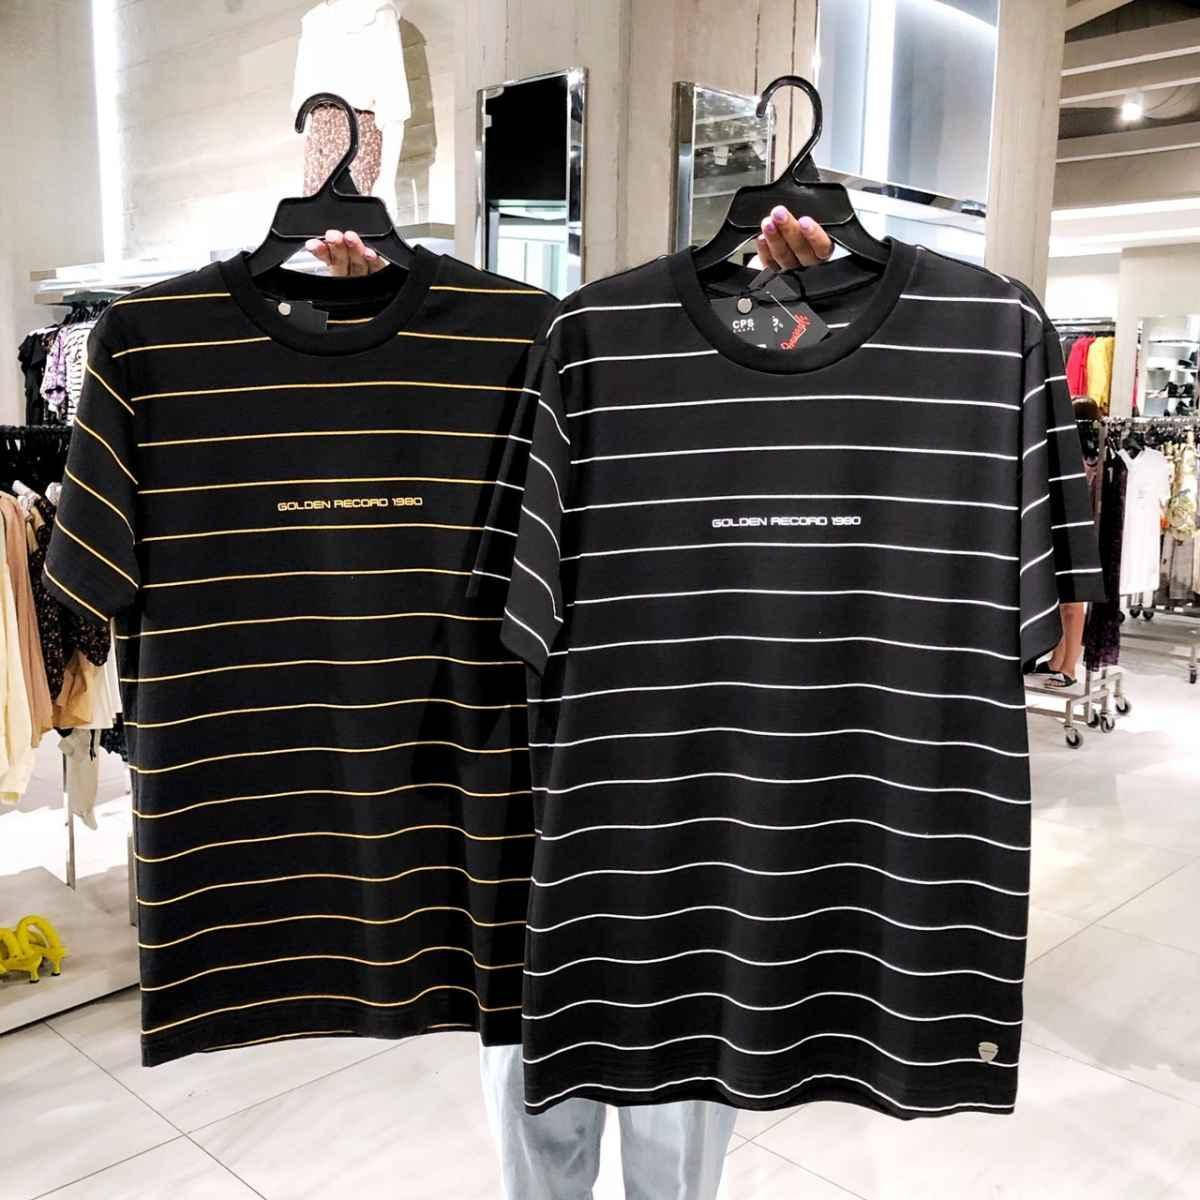Tshirt: (535, 241, 1093, 1110), (45, 248, 537, 1054)
